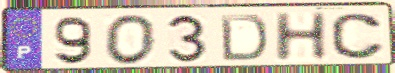3: (164, 12, 210, 66)
9: (52, 16, 95, 67)
C: (329, 12, 388, 61)
D: (218, 13, 271, 63)
H: (271, 10, 331, 64)
O: (102, 13, 158, 67)
